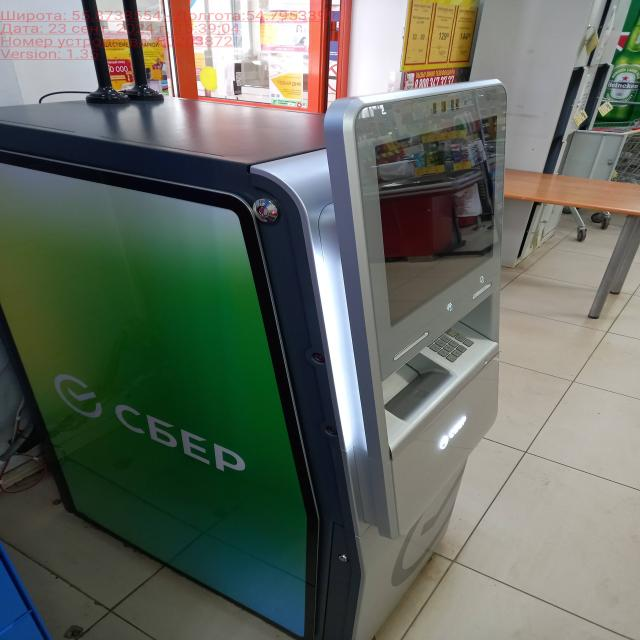bank: (0, 81, 507, 640)
